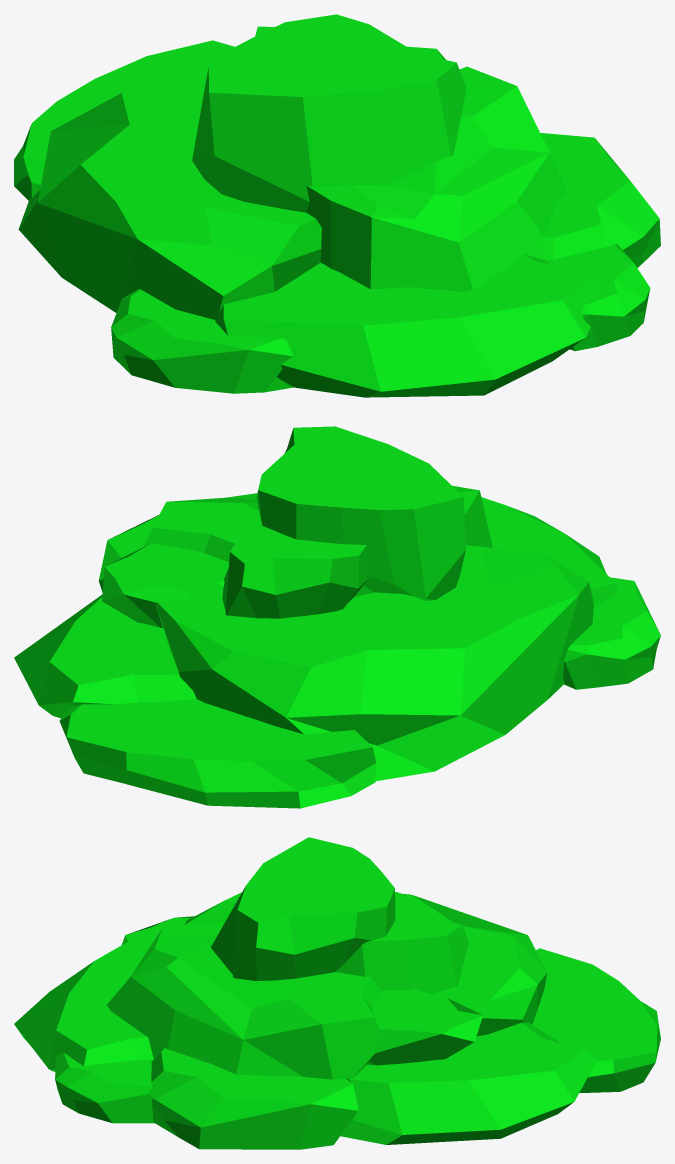
File: SM_QuarryRocks1.fbx
3 views of the same model, one above another, from view 1: azimuth 30°, elevation 25°; view 2: azimuth 150°, elevation 25°; view 3: azimuth 270°, elevation 25° (orthographic). The views are drawn at different scales.
Visible parts, largest first — view 1: SM_QuarryRocks1; view 2: SM_QuarryRocks1; view 3: SM_QuarryRocks1.
Boxes of the visible parts, left/top/right/bottom form: SM_QuarryRocks1: left=14, top=14, right=660, bottom=397; SM_QuarryRocks1: left=14, top=426, right=660, bottom=808; SM_QuarryRocks1: left=14, top=837, right=660, bottom=1149.
Bounding box in the file's own units: 1110 × 398 × 1433.
